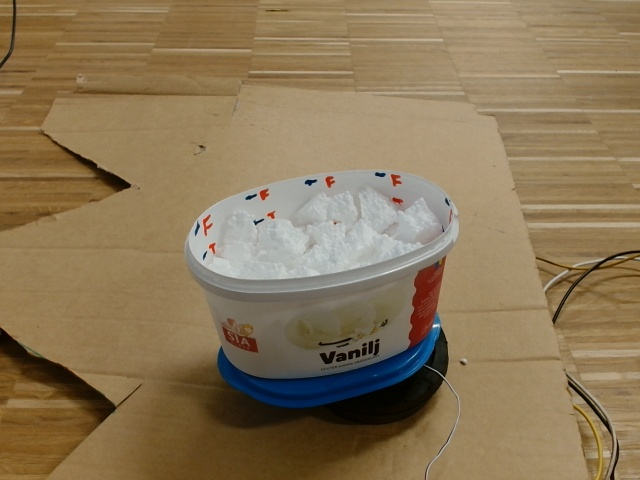Big_threequarter: (183, 168, 462, 292)
